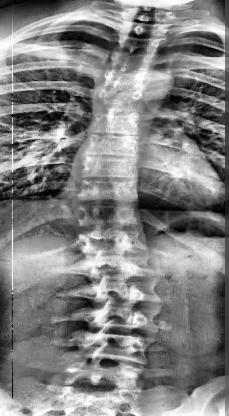Vertebrae: (70, 334, 156, 362), (82, 304, 156, 335), (73, 232, 147, 260), (84, 281, 158, 307), (74, 206, 144, 233), (76, 178, 139, 206), (81, 257, 148, 282), (78, 134, 142, 160), (88, 110, 146, 138), (76, 158, 142, 182), (93, 89, 147, 112), (102, 68, 151, 90), (113, 51, 154, 71), (119, 34, 159, 54), (126, 22, 160, 38)
